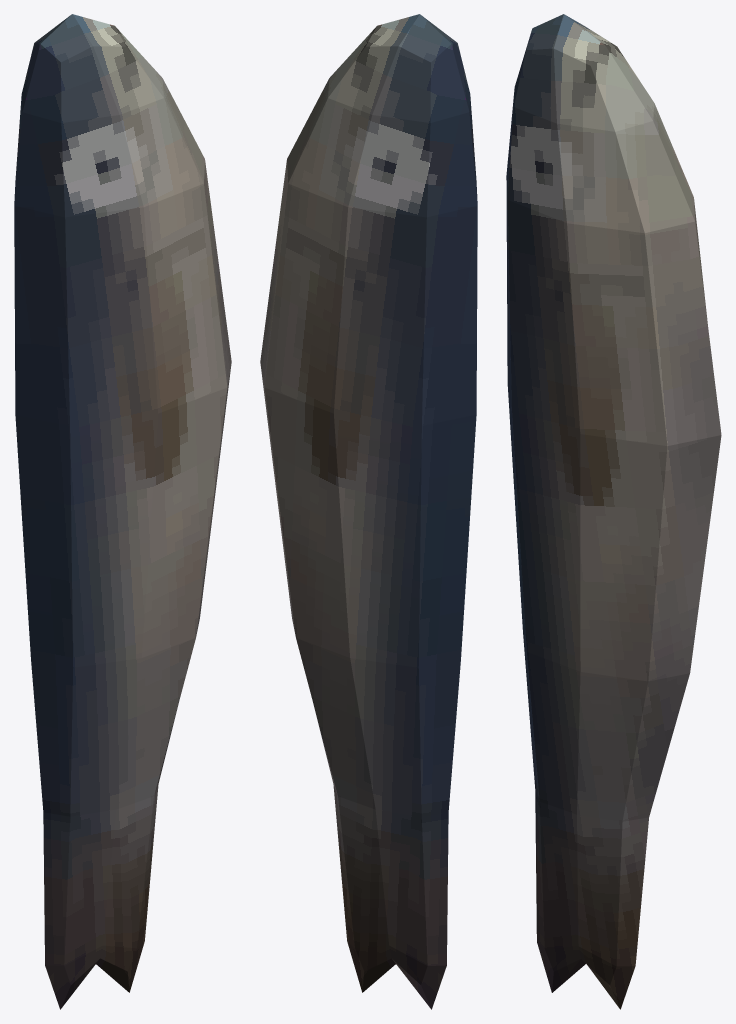
Rendered from item_bait_sardine.glb.
3 renders of one model, left to right at view 1: azimuth 30°, elevation 25°; view 2: azimuth 150°, elevation 25°; view 3: azimuth 330°, elevation 25°, orthographic.
Parts seen in each view (by area): view 1: Bait_Sardine; view 2: Bait_Sardine; view 3: Bait_Sardine.
Part boxes in pixels (left/top/right/bottom): Bait_Sardine: left=14, top=14, right=231, bottom=1009; Bait_Sardine: left=260, top=14, right=477, bottom=1009; Bait_Sardine: left=506, top=14, right=721, bottom=1009.
Bounding box in the file's own units: 0.054 × 0.2356 × 0.0298.
Materials: 1 (1 with a texture image).
